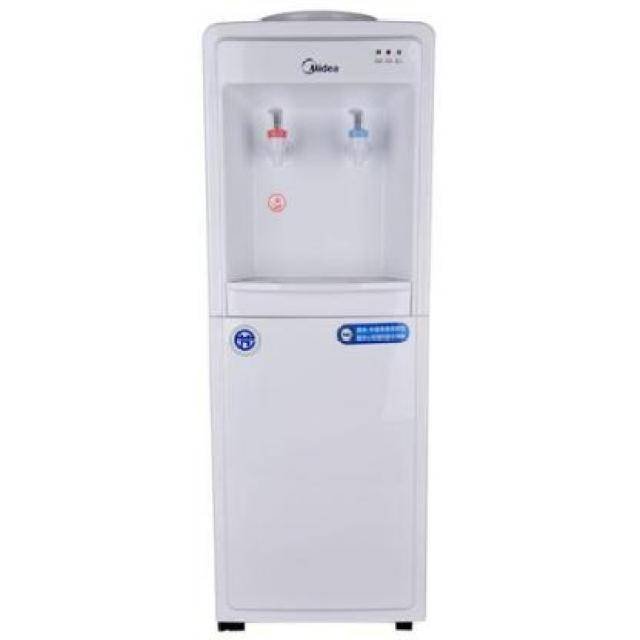cooler: (196, 3, 434, 630)
